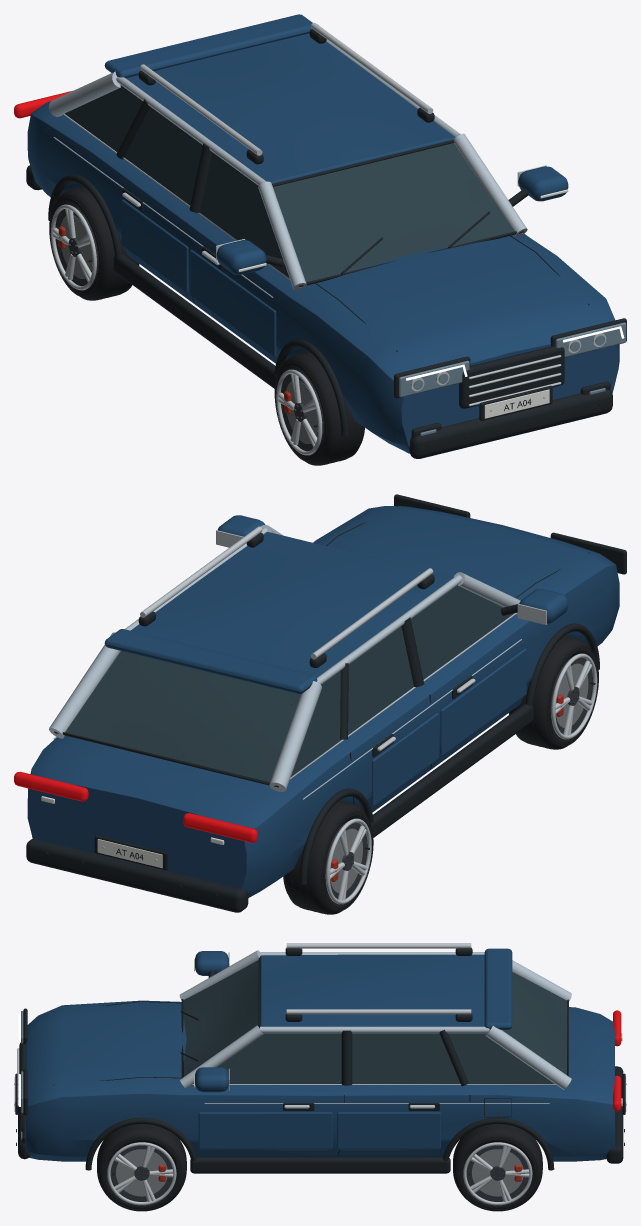
The model's file is estate-car.glb.
The picture shows the model from 3 angles, top to bottom: view 1: azimuth 30°, elevation 25°; view 2: azimuth 150°, elevation 25°; view 3: azimuth 270°, elevation 25°; orthographic projection. The views are drawn at different scales.
Parts seen in each view (by area): view 1: Wagon continuous sculpted body.001, Wagon gently crowned roof.001, Wagon curved laminated windscreen.001, Wagon fitted side glazing.003, Wagon front lower valance.001, Wagon rear roof spoiler.001, Wagon pressed door skin.006, Wagon rocker sill.003, Wagon pneumatic tyre.005, Wagon front radiator grille.001, Wagon pressed door skin.007, Wagon pneumatic tyre.004 (+19 smaller); view 2: Wagon continuous sculpted body.001, Wagon gently crowned roof.001, Wagon curved rear screen.001, Wagon fitted side glazing.003, Wagon rear bumper.001, Wagon rear roof spoiler.001, Wagon pressed door skin.006, Wagon rocker sill.003, Wagon pneumatic tyre.004, Wagon pressed door skin.007, Wagon pneumatic tyre.005, Wagon structural rear pillar.003 (+21 smaller); view 3: Wagon continuous sculpted body.001, Wagon gently crowned roof.001, Wagon fitted side glazing.002, Wagon curved laminated windscreen.001, Wagon pressed door skin.005, Wagon rocker sill.002, Wagon pressed door skin.004, Wagon curved rear screen.001, Wagon pneumatic tyre.007, Wagon pneumatic tyre.006, Wagon rear roof spoiler.001, Wagon roof side rail.002 (+21 smaller).
Boxes of the visible parts, x1,y1,x2,y2 form: Wagon continuous sculpted body.001: (27, 101, 619, 453); Wagon gently crowned roof.001: (126, 33, 454, 183); Wagon curved laminated windscreen.001: (273, 143, 514, 282); Wagon fitted side glazing.003: (64, 85, 289, 278); Wagon front lower valance.001: (409, 390, 612, 458); Wagon rear roof spoiler.001: (104, 14, 312, 78); Wagon pressed door skin.006: (190, 249, 276, 357); Wagon rocker sill.003: (113, 254, 276, 388); Wagon pneumatic tyre.005: (275, 352, 364, 465); Wagon front radiator grille.001: (459, 346, 564, 408); Wagon pressed door skin.007: (121, 199, 188, 292); Wagon pneumatic tyre.004: (50, 187, 139, 300); Wagon continuous sculpted body.001: (27, 506, 619, 897); Wagon gently crowned roof.001: (131, 532, 453, 677); Wagon curved rear screen.001: (65, 651, 300, 782); Wagon fitted side glazing.003: (291, 585, 513, 776); Wagon rear bumper.001: (26, 839, 248, 912); Wagon rear roof spoiler.001: (104, 629, 317, 694); Wagon pressed door skin.006: (440, 648, 526, 755); Wagon rocker sill.003: (371, 703, 533, 837); Wagon pneumatic tyre.004: (283, 801, 372, 914); Wagon pressed door skin.007: (371, 712, 438, 806); Wagon pneumatic tyre.005: (508, 636, 598, 749); Wagon structural rear pillar.003: (269, 681, 321, 791); Wagon continuous sculpted body.001: (26, 1000, 614, 1161); Wagon gently crowned roof.001: (260, 954, 484, 1026); Wagon fitted side glazing.002: (193, 1033, 554, 1083); Wagon curved laminated windscreen.001: (184, 960, 258, 1076); Wagon pressed door skin.005: (198, 1112, 332, 1149); Wagon rocker sill.002: (190, 1157, 450, 1173); Wagon pressed door skin.004: (337, 1112, 440, 1149); Wagon curved rear screen.001: (502, 972, 566, 1074); Wagon pneumatic tyre.007: (453, 1124, 542, 1211); Wagon pneumatic tyre.006: (97, 1124, 186, 1211); Wagon rear roof spoiler.001: (484, 948, 512, 1029); Wagon roof side rail.002: (260, 1026, 489, 1033).
Bounding box in the file's own units: 2.55 × 1.69 × 5.08.
